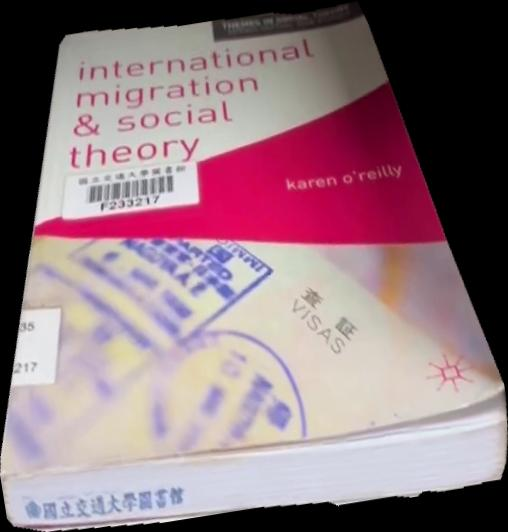flat: (1, 1, 508, 532)
